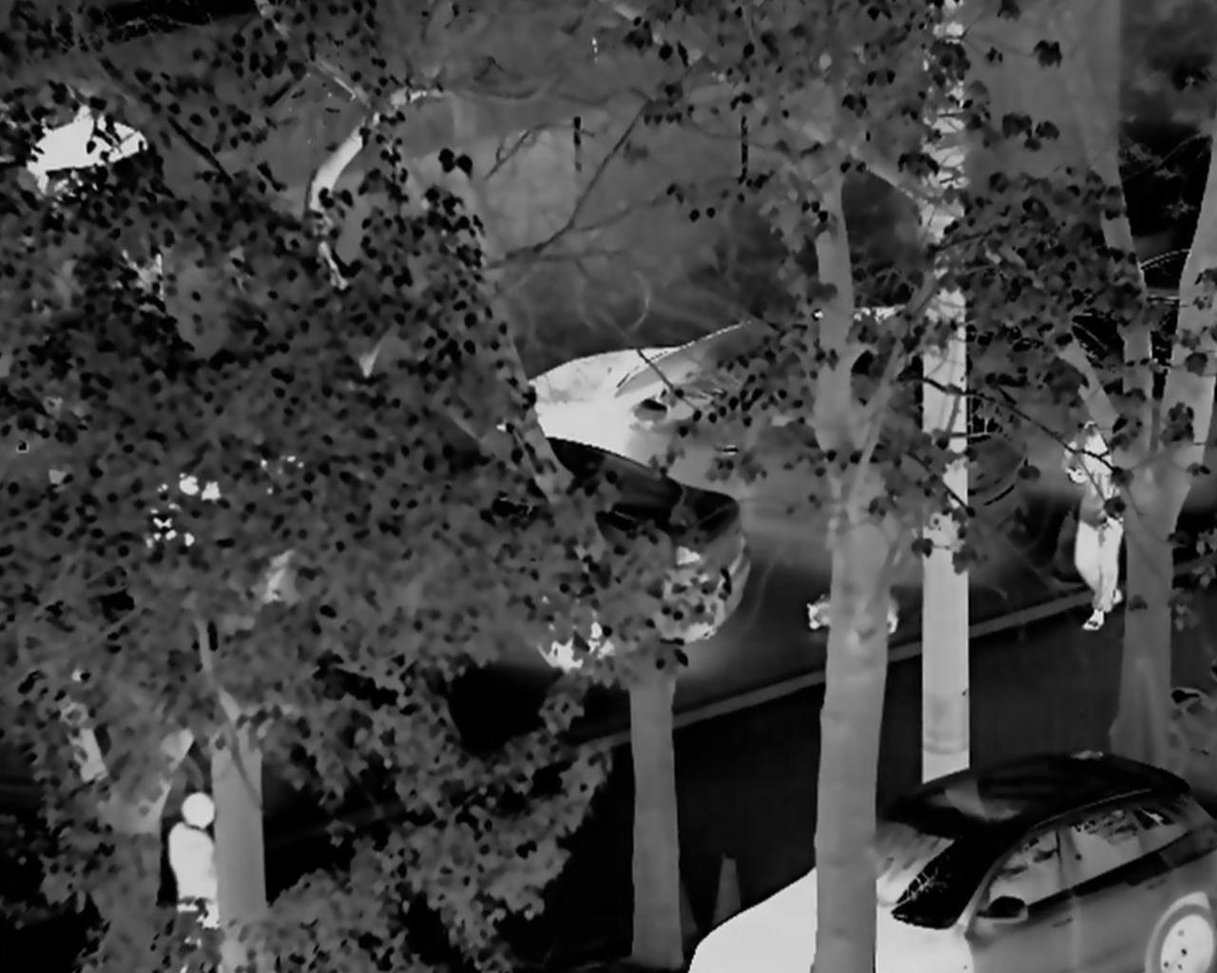person: (162, 788, 244, 962), (1063, 421, 1130, 632)
